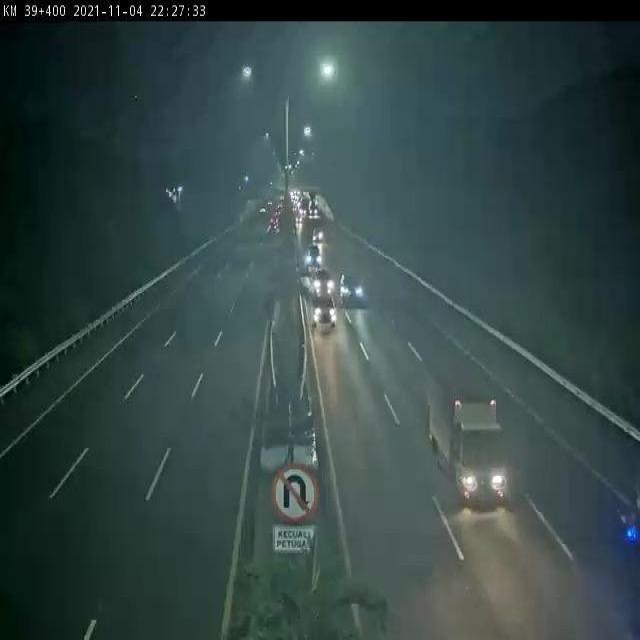car: (311, 291, 338, 327), (337, 268, 364, 301), (311, 264, 334, 295)
truck: (428, 362, 506, 506)
